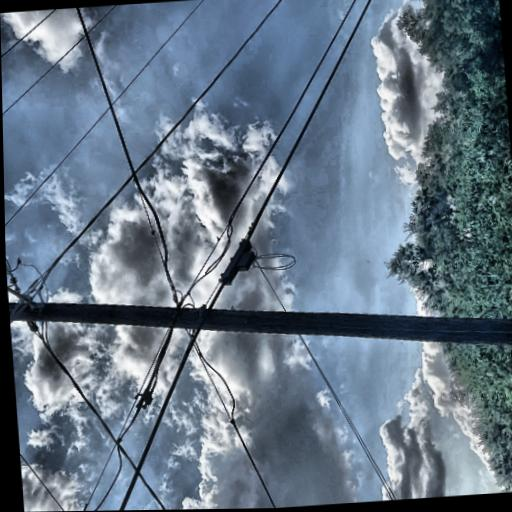pole: (0, 6, 130, 512)
street light: (63, 16, 168, 152)
